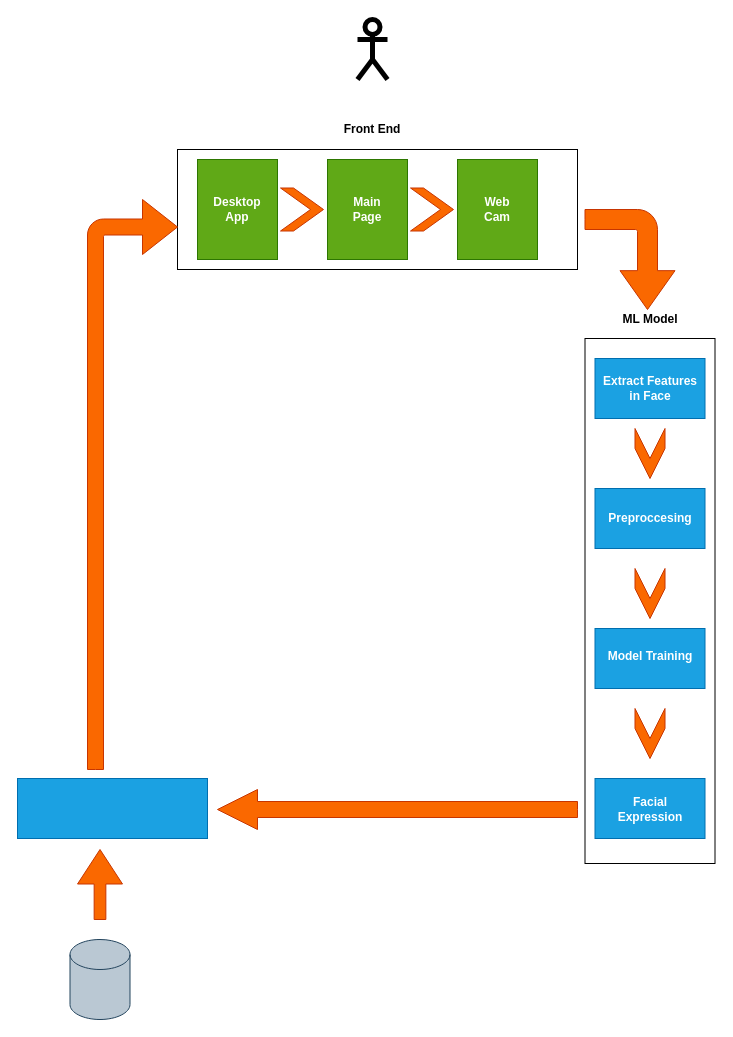
Some shapes in this 733 by 1037 pixel diagram are drawn without their labels. The centre of each missing label's shape, as x and y in pixels:
"Account DB" belongs at (x=99, y=979).
"Detected Face" belongs at (x=112, y=808).
"User" belongs at (x=372, y=49).
